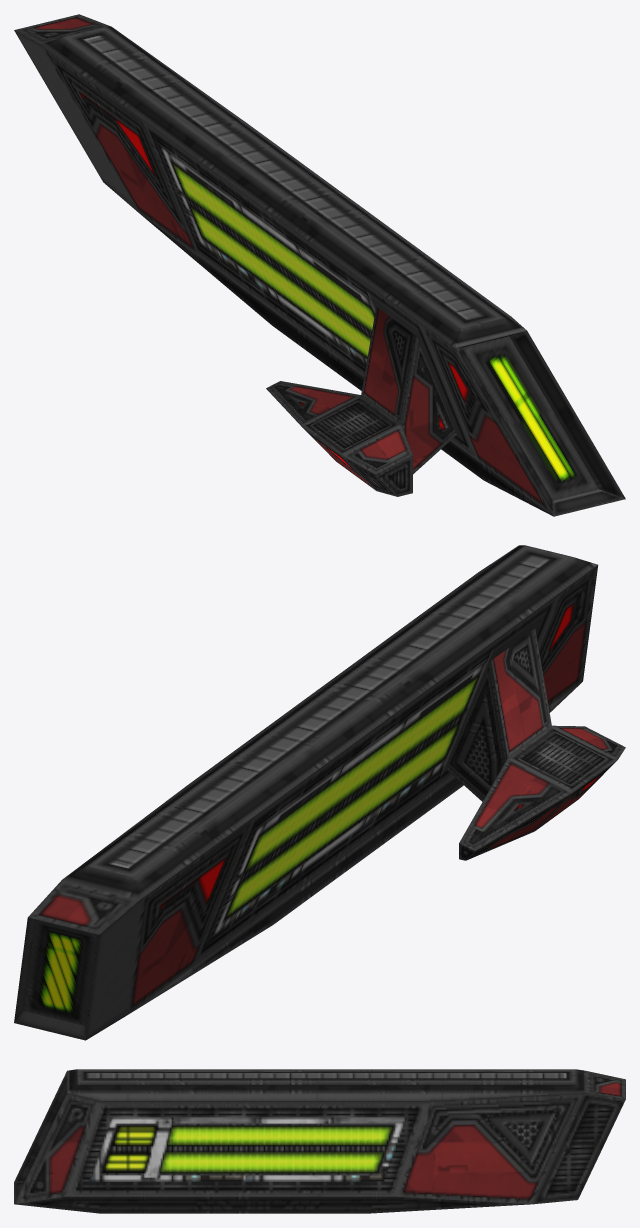
Rendered from BFP_ConstSingleEngine_UL.FBX.
3 views of the same model, one above another, from view 1: azimuth 30°, elevation 25°; view 2: azimuth 150°, elevation 25°; view 3: azimuth 270°, elevation 25° (orthographic). The views are drawn at different scales.
Visible parts, largest first — view 1: BFP_ConstSingleEngine_UL; view 2: BFP_ConstSingleEngine_UL; view 3: BFP_ConstSingleEngine_UL.
Part boxes in pixels (x1=…): BFP_ConstSingleEngine_UL: x1=14, y1=14, x2=625, y2=516; BFP_ConstSingleEngine_UL: x1=14, y1=545, x2=625, y2=1040; BFP_ConstSingleEngine_UL: x1=14, y1=1069, x2=625, y2=1213.
Size of the model in its own units: 137 by 119 by 588.
Materials: 1 (1 with a texture image).
